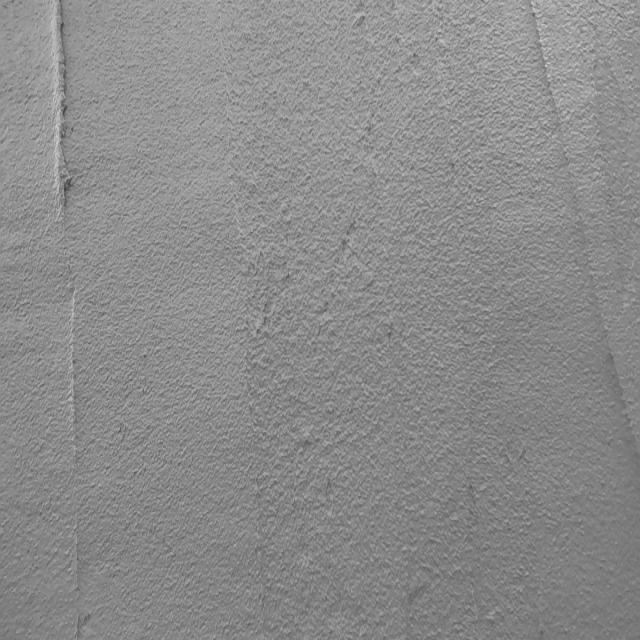trowels marks: (532, 6, 626, 441), (62, 268, 87, 626), (46, 2, 77, 243)
